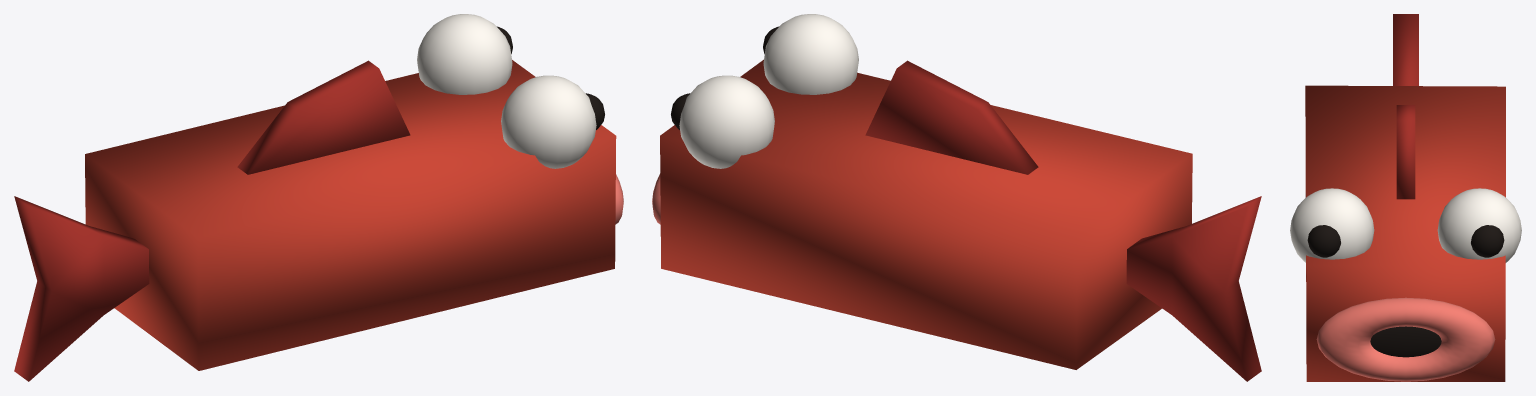
Rendered from KFB_BrickFish_clay01.glb.
3 renders of one model, left to right at view 1: azimuth 30°, elevation 25°; view 2: azimuth 150°, elevation 25°; view 3: azimuth 270°, elevation 25°, orthographic. The views are drawn at different scales.
Parts seen in each view (by area): view 1: KFB_BrickFish_body, KFB_BrickFish_tail, KFB_BrickFish_dorsal, KFB_BrickFish_eye_r, KFB_BrickFish_eye_l; view 2: KFB_BrickFish_body, KFB_BrickFish_tail, KFB_BrickFish_dorsal, KFB_BrickFish_eye_l, KFB_BrickFish_eye_r; view 3: KFB_BrickFish_body, KFB_BrickFish_lips, KFB_BrickFish_eye_l, KFB_BrickFish_eye_r, KFB_BrickFish_dorsal, KFB_BrickFish_tail, KFB_BrickFish_mouth, KFB_BrickFish_pupil_l, KFB_BrickFish_pupil_r.
Boxes of the visible parts, bbox=[...] form: KFB_BrickFish_body: bbox=[85, 60, 616, 370]; KFB_BrickFish_tail: bbox=[14, 196, 149, 381]; KFB_BrickFish_dorsal: bbox=[237, 60, 410, 174]; KFB_BrickFish_eye_r: bbox=[501, 75, 596, 168]; KFB_BrickFish_eye_l: bbox=[417, 14, 512, 94]; KFB_BrickFish_body: bbox=[660, 59, 1192, 369]; KFB_BrickFish_tail: bbox=[1126, 196, 1261, 381]; KFB_BrickFish_dorsal: bbox=[865, 60, 1038, 174]; KFB_BrickFish_eye_l: bbox=[679, 75, 774, 168]; KFB_BrickFish_eye_r: bbox=[763, 14, 858, 94]; KFB_BrickFish_body: bbox=[1305, 85, 1505, 381]; KFB_BrickFish_lips: bbox=[1316, 297, 1495, 381]; KFB_BrickFish_eye_l: bbox=[1437, 188, 1521, 262]; KFB_BrickFish_eye_r: bbox=[1290, 188, 1374, 262]; KFB_BrickFish_dorsal: bbox=[1396, 105, 1415, 199]; KFB_BrickFish_tail: bbox=[1393, 14, 1418, 85]; KFB_BrickFish_mouth: bbox=[1370, 326, 1441, 357]; KFB_BrickFish_pupil_l: bbox=[1471, 225, 1504, 257]; KFB_BrickFish_pupil_r: bbox=[1307, 225, 1340, 257].
Bounding box in the file's own units: 0.4862 × 0.187 × 0.198.
